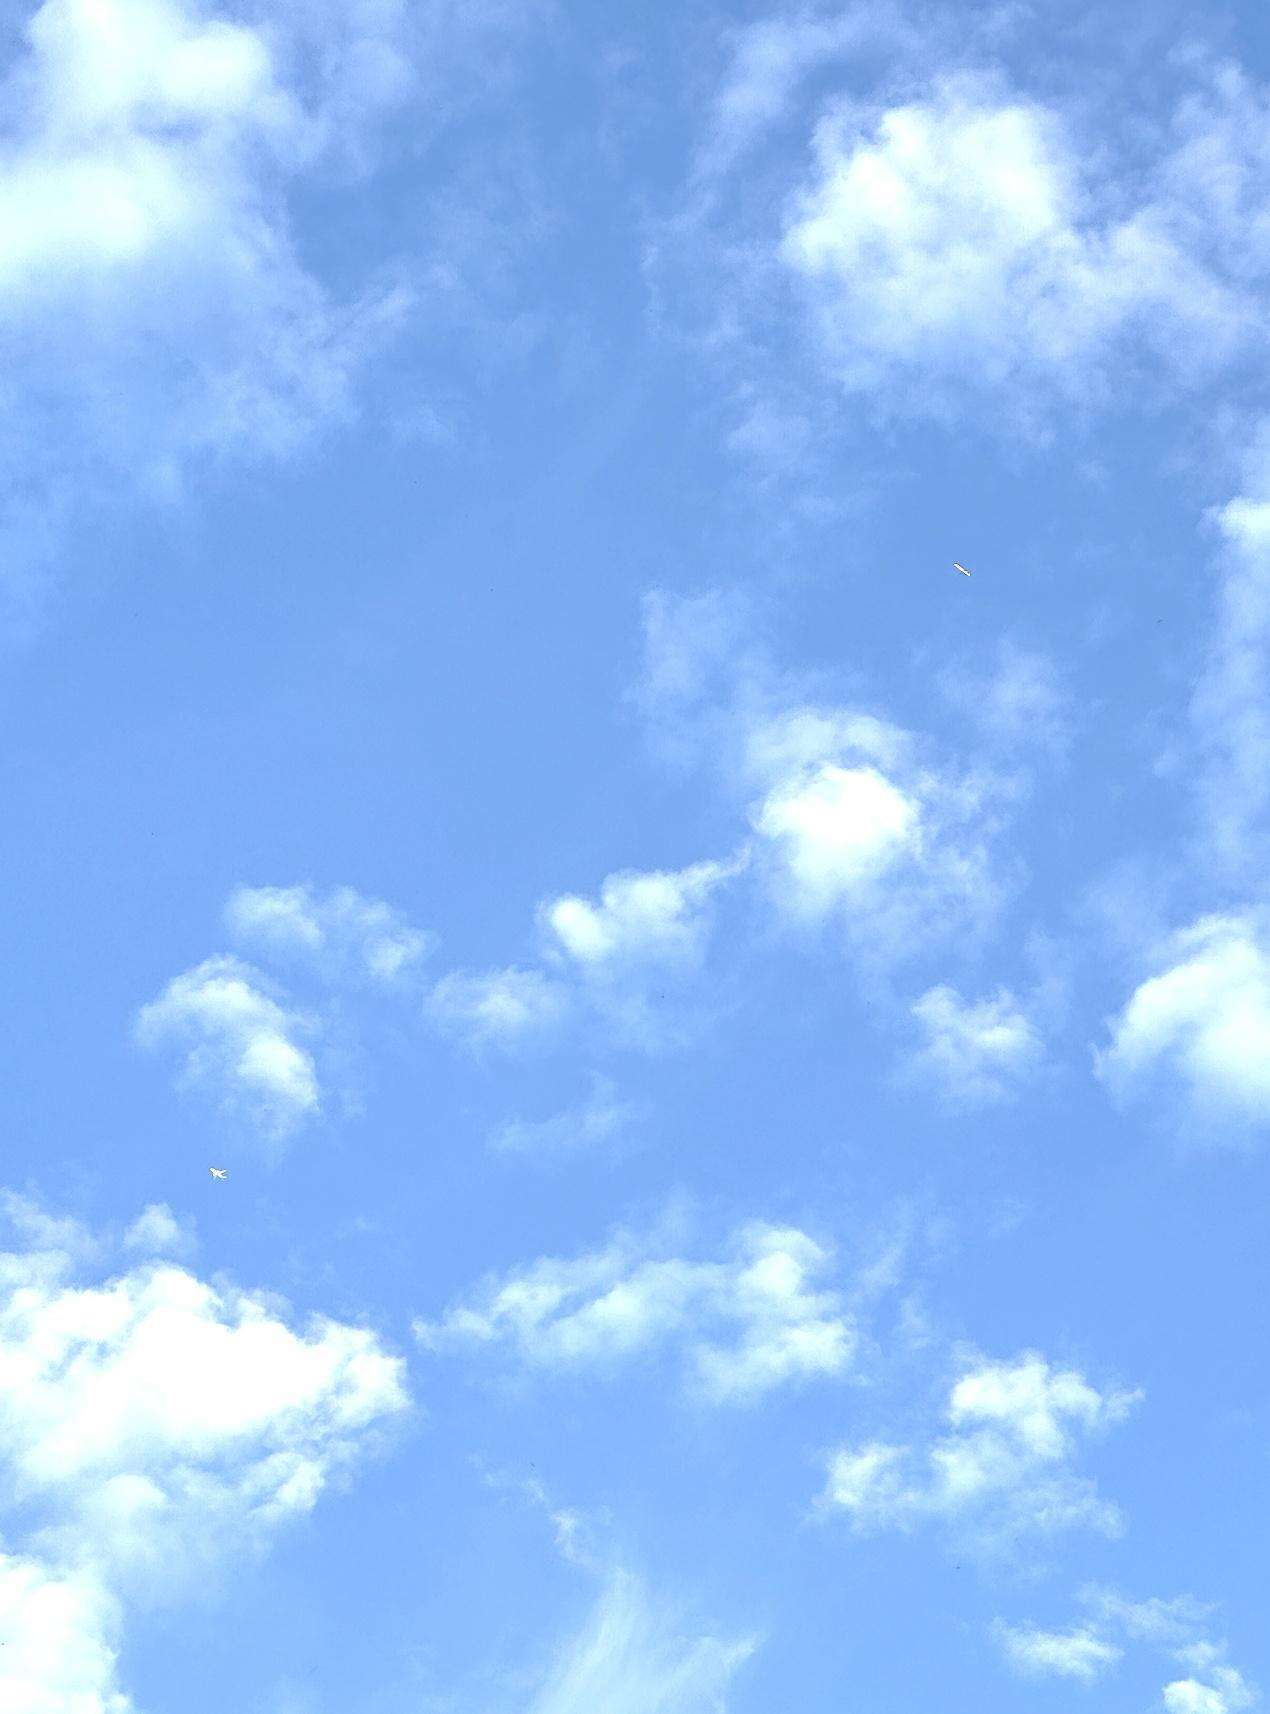Plane: (191, 1151, 245, 1194), (934, 558, 993, 579)
